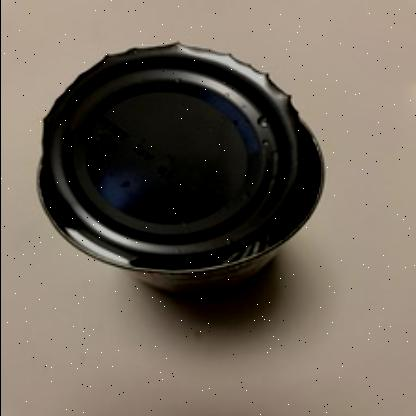Can: (38, 34, 324, 296)
